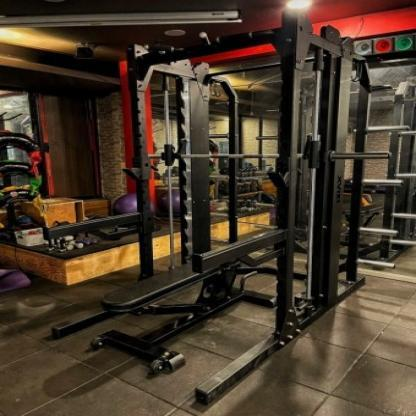smith machine: (48, 14, 340, 406)
